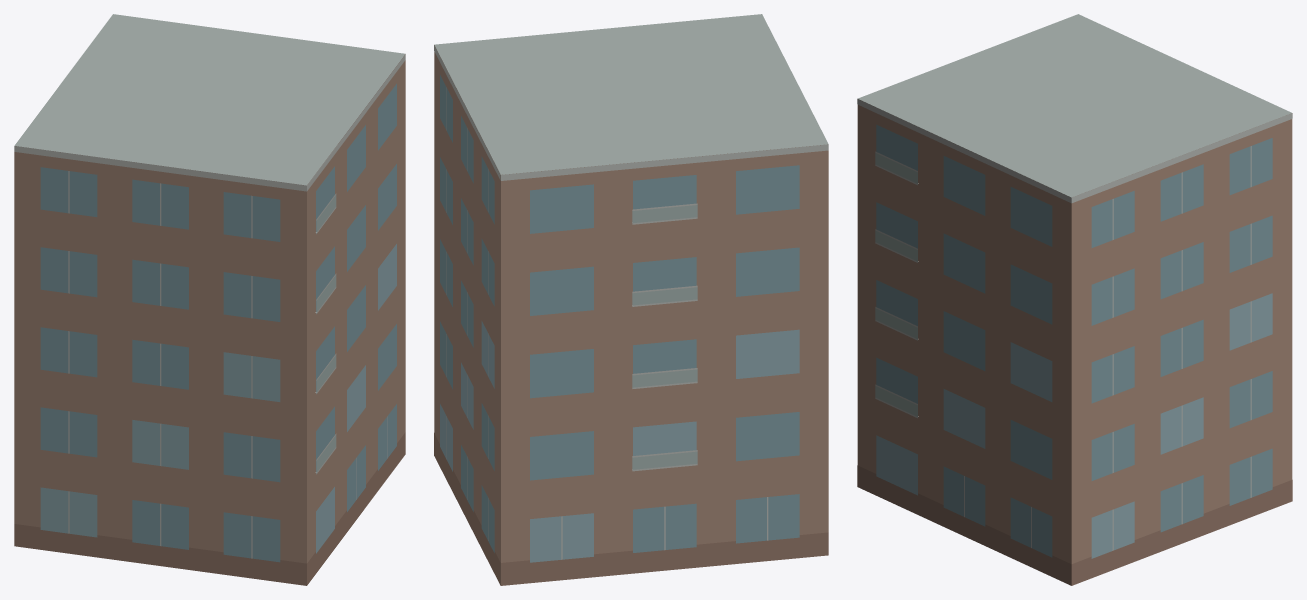
File: survey-upis-32597794.glb
The picture shows the model from 3 angles, left to right: view 1: azimuth 30°, elevation 25°; view 2: azimuth 150°, elevation 25°; view 3: azimuth 270°, elevation 25°; orthographic projection. The views are drawn at different scales.
Visible parts, largest first — view 1: survey-upis-32597794.tmp; view 2: survey-upis-32597794.tmp; view 3: survey-upis-32597794.tmp.
Boxes of the visible parts, x1,y1,x2,y2 form: survey-upis-32597794.tmp: [14, 14, 405, 585]; survey-upis-32597794.tmp: [434, 14, 828, 585]; survey-upis-32597794.tmp: [857, 14, 1292, 585].
Size of the model in its own units: 16.43 by 16.2 by 16.45.
